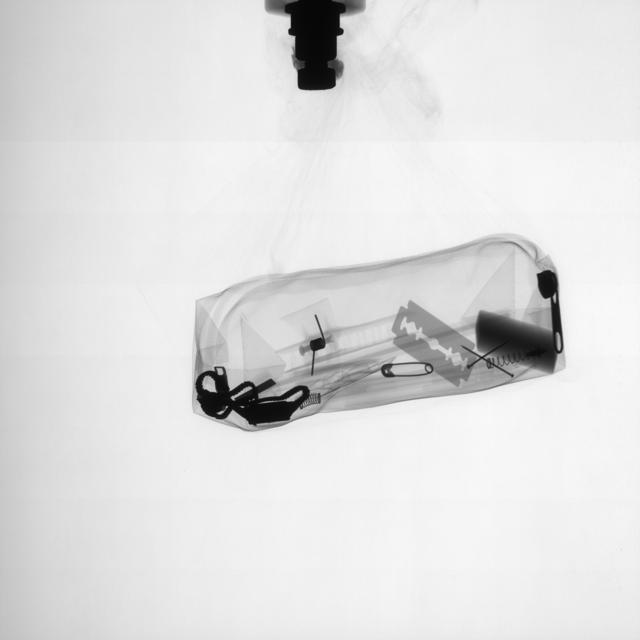razor: (389, 295, 480, 388)
